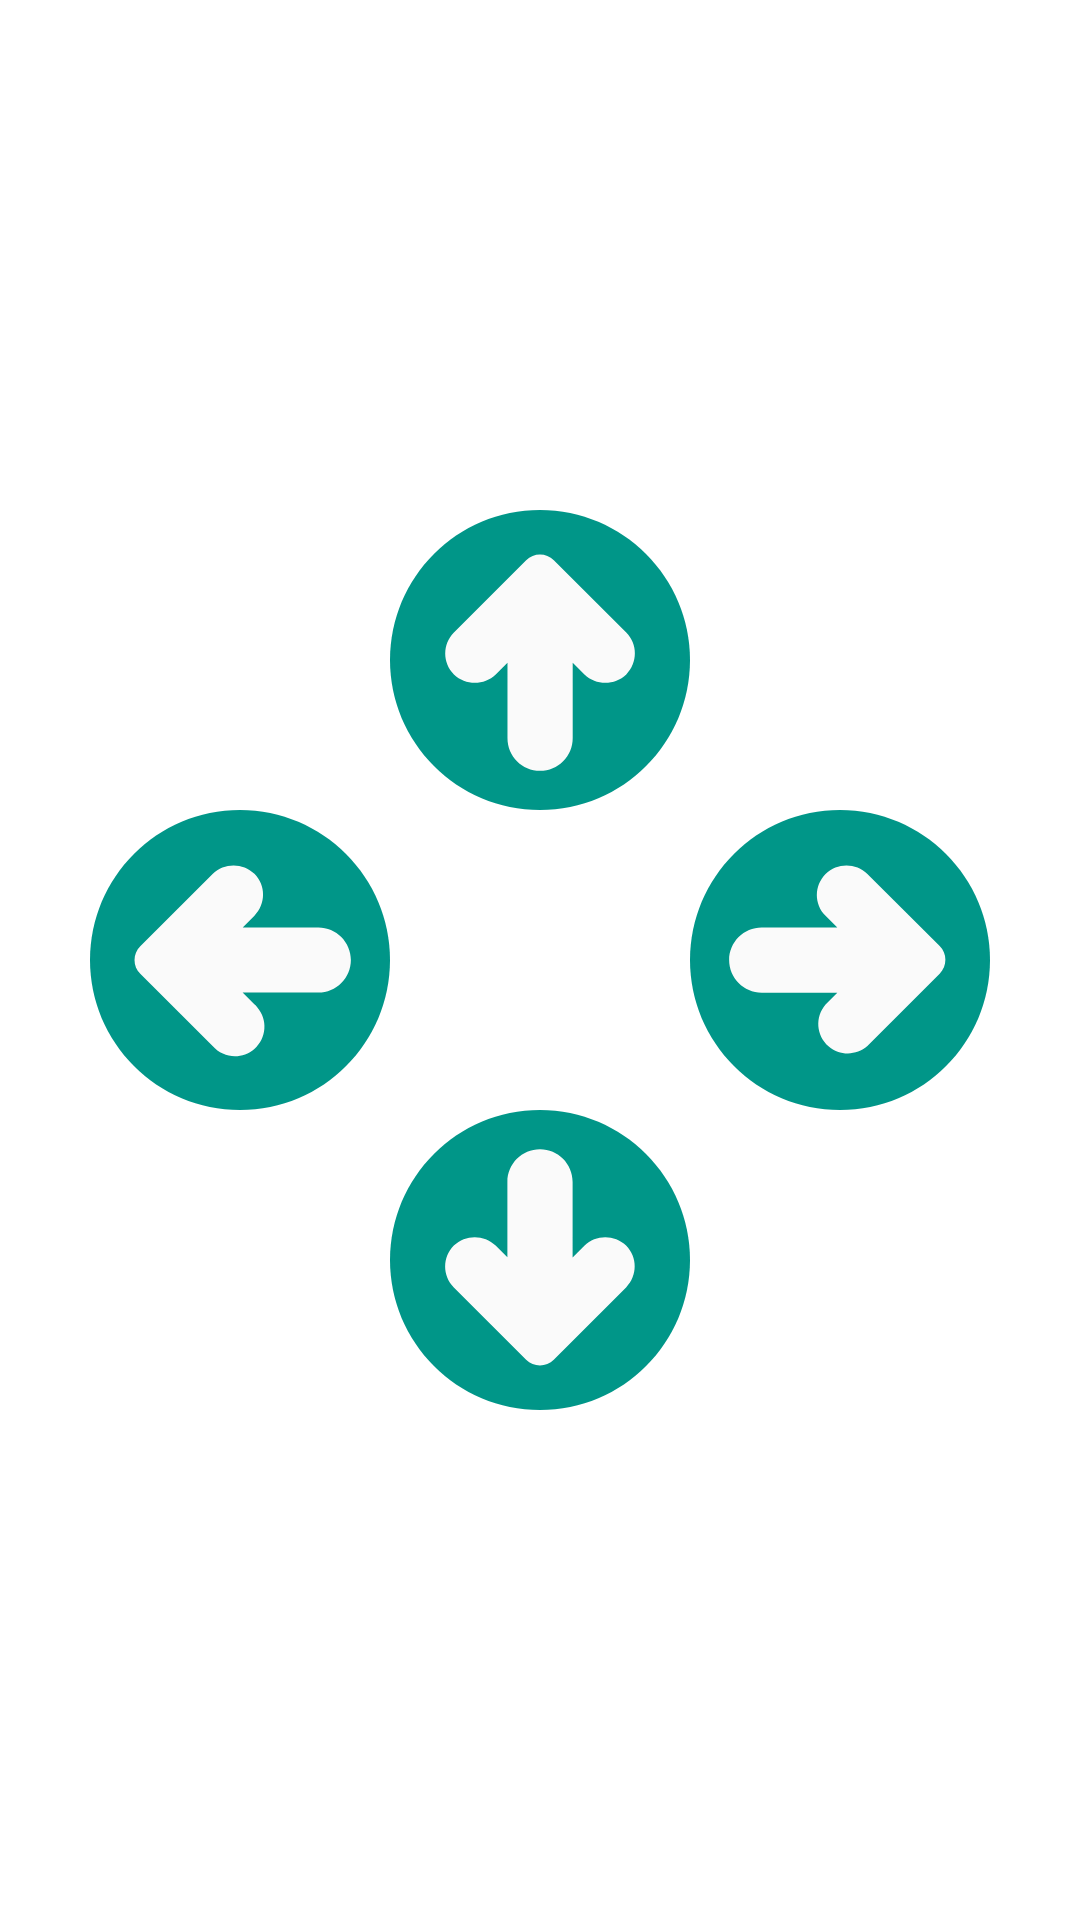

Icon bounding boxes for this 1080px×1920px phone screenshot, format [x1, y1, x2, y2]:
down: [390, 1110, 690, 1410]
left: [90, 810, 390, 1110]
right: [690, 810, 990, 1110]
